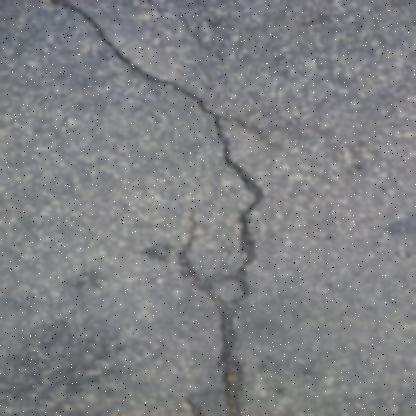Cracks: (37, 0, 287, 415)
